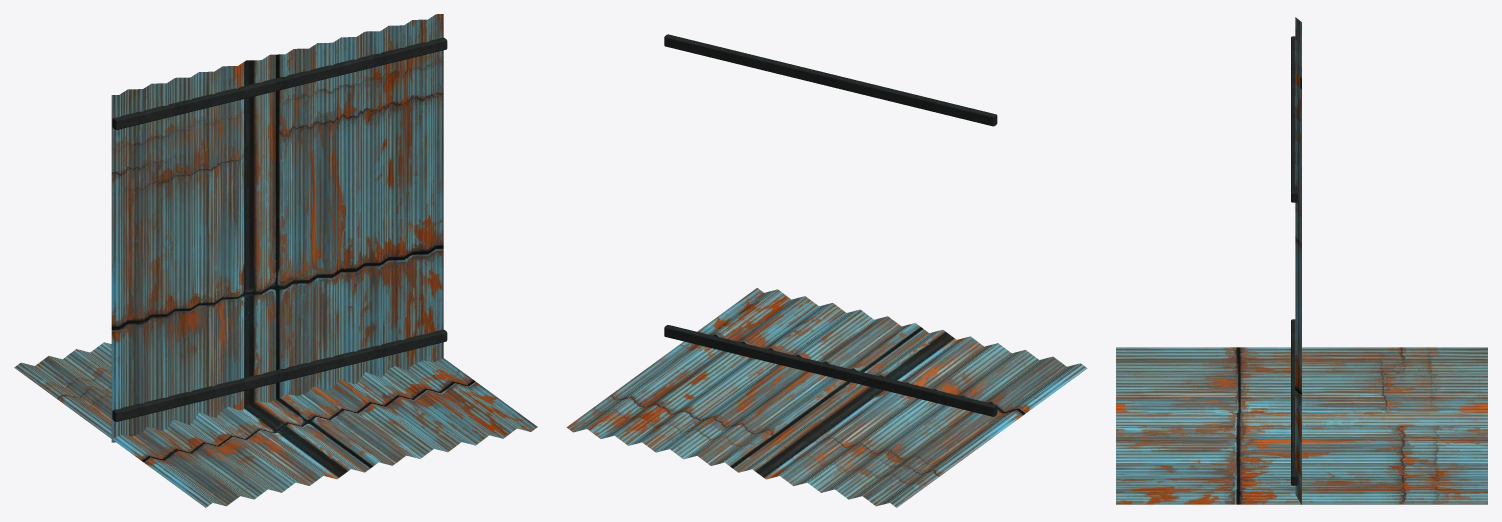
File: town_shack.glb
The picture shows the model from 3 angles, left to right: view 1: azimuth 30°, elevation 25°; view 2: azimuth 150°, elevation 25°; view 3: azimuth 270°, elevation 25°; orthographic projection. The views are drawn at different scales.
Parts seen in each view (by area): view 1: prop (×3); view 2: prop (×2); view 3: prop (×3).
Part boxes in pixels (box(x1,y1,x2,y2)): prop (×3): box(14, 14, 537, 507); prop (×2): box(566, 34, 1087, 507); prop (×3): box(1116, 17, 1487, 504).
Size of the model in its own units: 1 by 1 by 1.
Materials: 3 (3 with a texture image).
